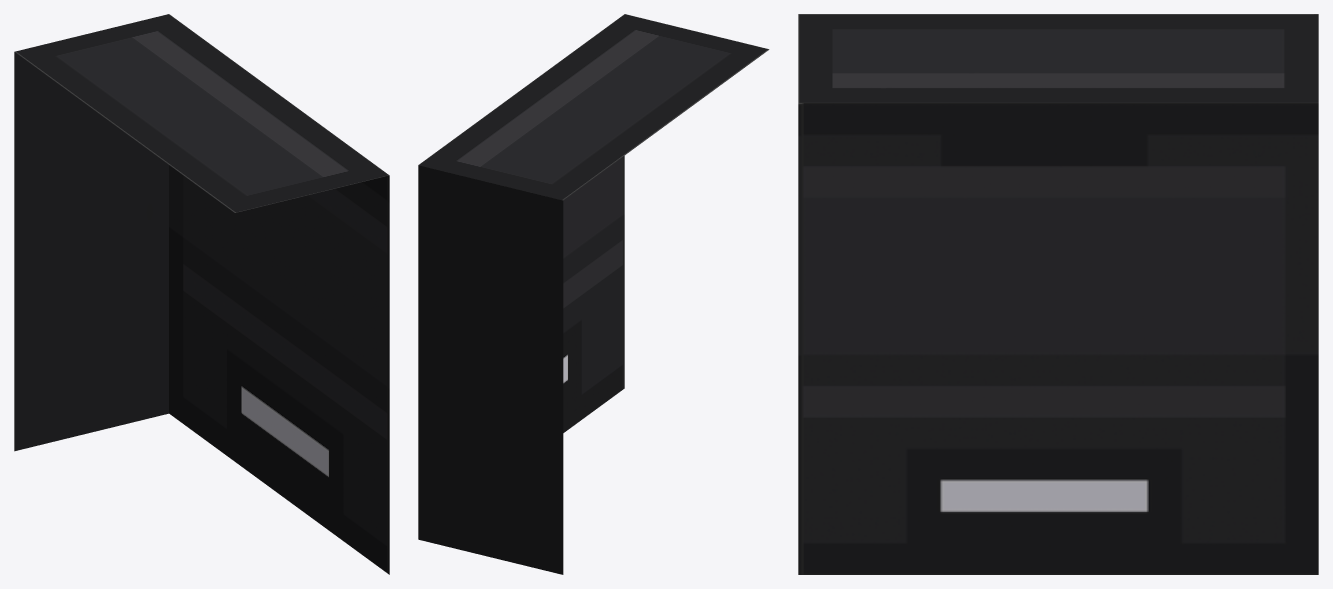
The model's file is env_sta_wall_fCap_left_01.fbx.
The picture shows the model from 3 angles, left to right: view 1: azimuth 30°, elevation 25°; view 2: azimuth 150°, elevation 25°; view 3: azimuth 270°, elevation 25°; orthographic projection. The views are drawn at different scales.
Parts seen in each view (by area): view 1: env_sta_wall_fCap_left_01; view 2: env_sta_wall_fCap_left_01; view 3: env_sta_wall_fCap_left_01.
Part boxes in pixels (x1,y1,x2,y2): env_sta_wall_fCap_left_01: (14, 14, 389, 574); env_sta_wall_fCap_left_01: (418, 14, 769, 574); env_sta_wall_fCap_left_01: (798, 14, 1318, 574).
Bounding box in the file's own units: 48.72 × 120 × 120.
Materials: 1 (1 with a texture image).
